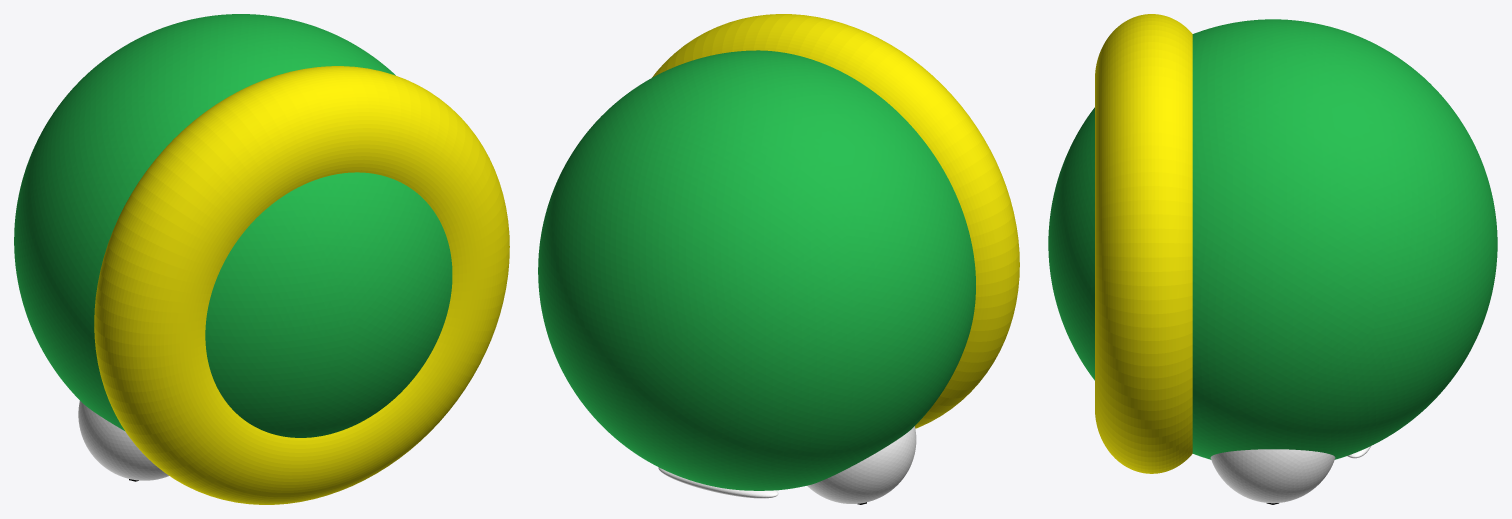
The model's file is spot.obj.
The picture shows the model from 3 angles, left to right: view 1: azimuth 30°, elevation 25°; view 2: azimuth 150°, elevation 25°; view 3: azimuth 270°, elevation 25°; orthographic projection. The views are drawn at different scales.
Parts seen in each view (by area): view 1: Object.1; view 2: Object.1; view 3: Object.1.
Part boxes in pixels (left/top/right/bottom): Object.1: left=14, top=14, right=509, bottom=504; Object.1: left=538, top=14, right=1019, bottom=504; Object.1: left=1048, top=14, right=1497, bottom=504.
Bounding box in the file's own units: 40.93 × 41.1 × 39.98.
